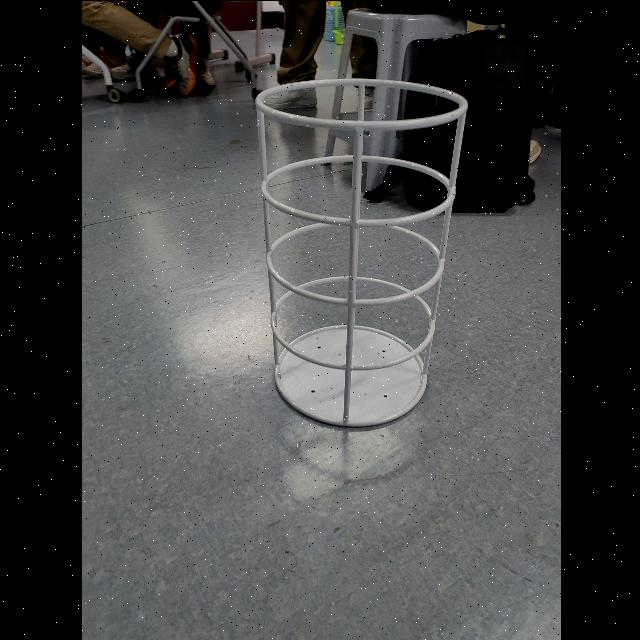S: (248, 76, 472, 434)
